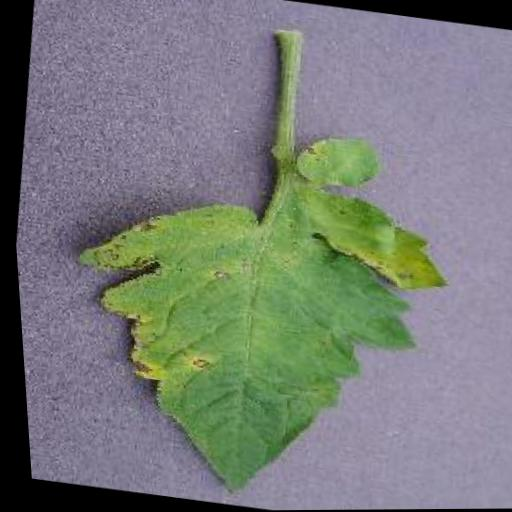Septoria: (33, 101, 474, 512)
